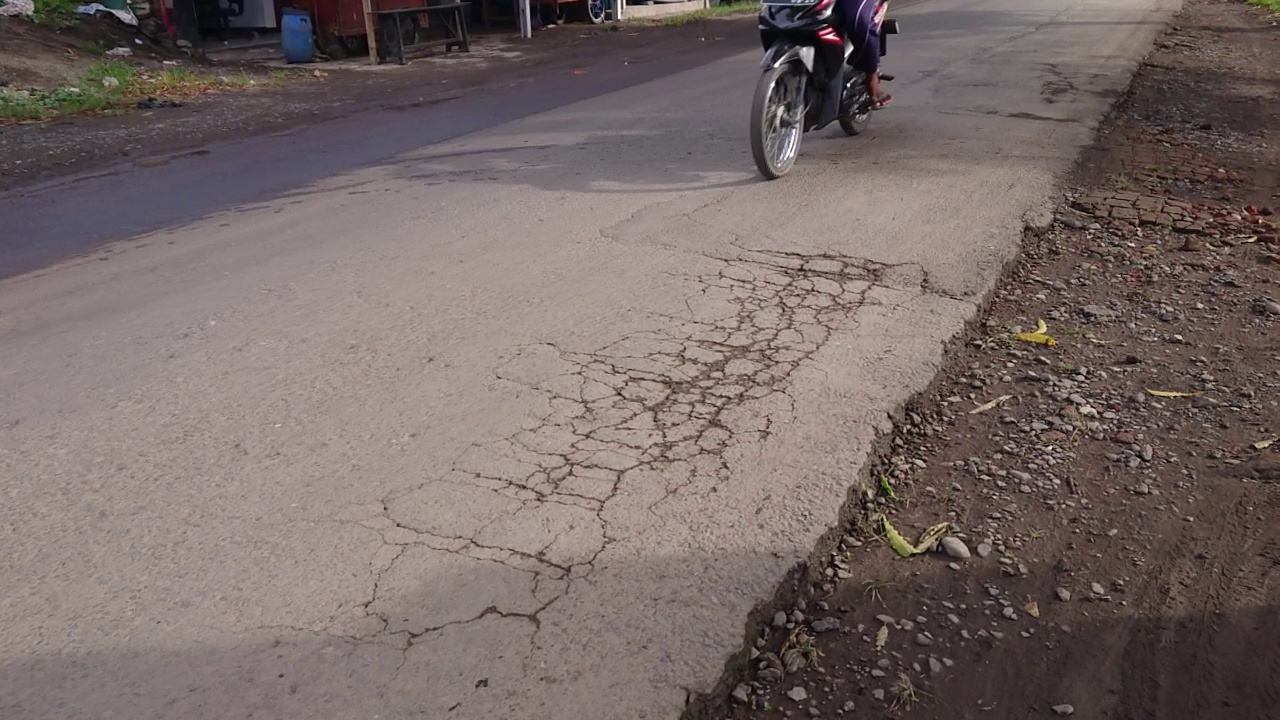Retak: (394, 236, 868, 652), (1021, 63, 1089, 119)
